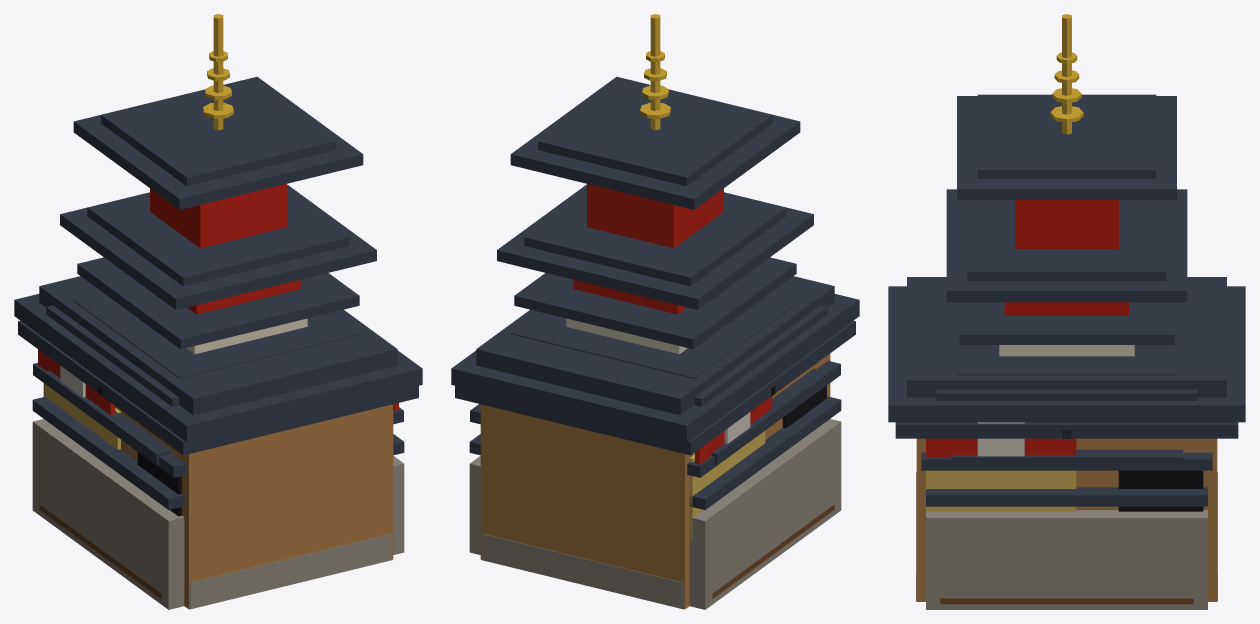
File: town-buildings.glb
3 renders of one model, left to right at view 1: azimuth 30°, elevation 25°; view 2: azimuth 150°, elevation 25°; view 3: azimuth 270°, elevation 25°, orthographic. The views are drawn at different scales.
Parts seen in each view (by area): view 1: pagoda-east, ramen_shop-east, castle_tower-east, pagoda-west, shrine_hall-east, ramen_shop-west, castle_tower-west, shrine_hall-front, japanese_house-west, japanese_house-east; view 2: pagoda-east, ramen_shop-east, castle_tower-east, shrine_hall-east, pagoda-west, ramen_shop-west, castle_tower-west, shrine_hall-front, japanese_house-west, japanese_house-east; view 3: pagoda-east, ramen_shop-east, castle_tower-east, pagoda-west, shrine_hall-east, ramen_shop-west, shrine_hall-front, castle_tower-west, japanese_house-east, japanese_house-west.
Part boxes in pixels (<box>): pagoda-east: <box>32,14,404,509</box>; ramen_shop-east: <box>14,276,422,609</box>; castle_tower-east: <box>32,257,404,609</box>; pagoda-west: <box>41,14,399,498</box>; shrine_hall-east: <box>18,321,418,609</box>; ramen_shop-west: <box>17,277,417,516</box>; castle_tower-west: <box>40,259,400,520</box>; shrine_hall-front: <box>44,371,172,464</box>; japanese_house-west: <box>39,407,403,598</box>; japanese_house-east: <box>33,363,186,477</box>; pagoda-east: <box>469,14,841,509</box>; ramen_shop-east: <box>451,276,859,609</box>; castle_tower-east: <box>469,257,841,609</box>; shrine_hall-east: <box>455,320,855,609</box>; pagoda-west: <box>472,14,838,497</box>; ramen_shop-west: <box>455,277,857,540</box>; castle_tower-west: <box>471,258,839,520</box>; shrine_hall-front: <box>711,368,829,464</box>; japanese_house-west: <box>470,404,834,598</box>; japanese_house-east: <box>687,361,840,477</box>; pagoda-east: <box>926,14,1207,506</box>; ramen_shop-east: <box>888,277,1245,601</box>; castle_tower-east: <box>926,302,1207,609</box>; pagoda-west: <box>927,14,1207,495</box>; shrine_hall-east: <box>895,422,1238,601</box>; ramen_shop-west: <box>888,277,1245,404</box>; shrine_hall-front: <box>951,449,1182,468</box>; castle_tower-west: <box>926,302,1206,517</box>; japanese_house-east: <box>940,598,1193,604</box>; japanese_house-west: <box>921,430,1212,470</box>.
Size of the model in its own units: 1 by 2.09 by 1.27.
